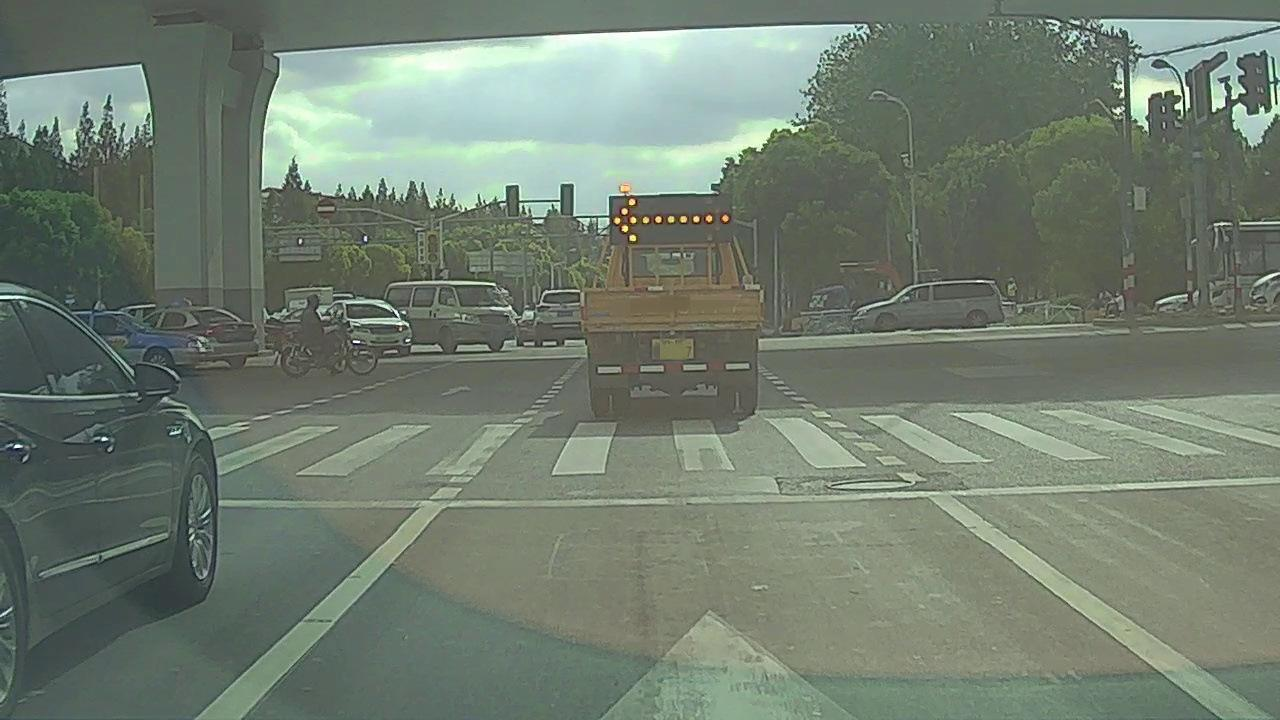traffic_light: (562, 181, 575, 215), (507, 184, 520, 217)
